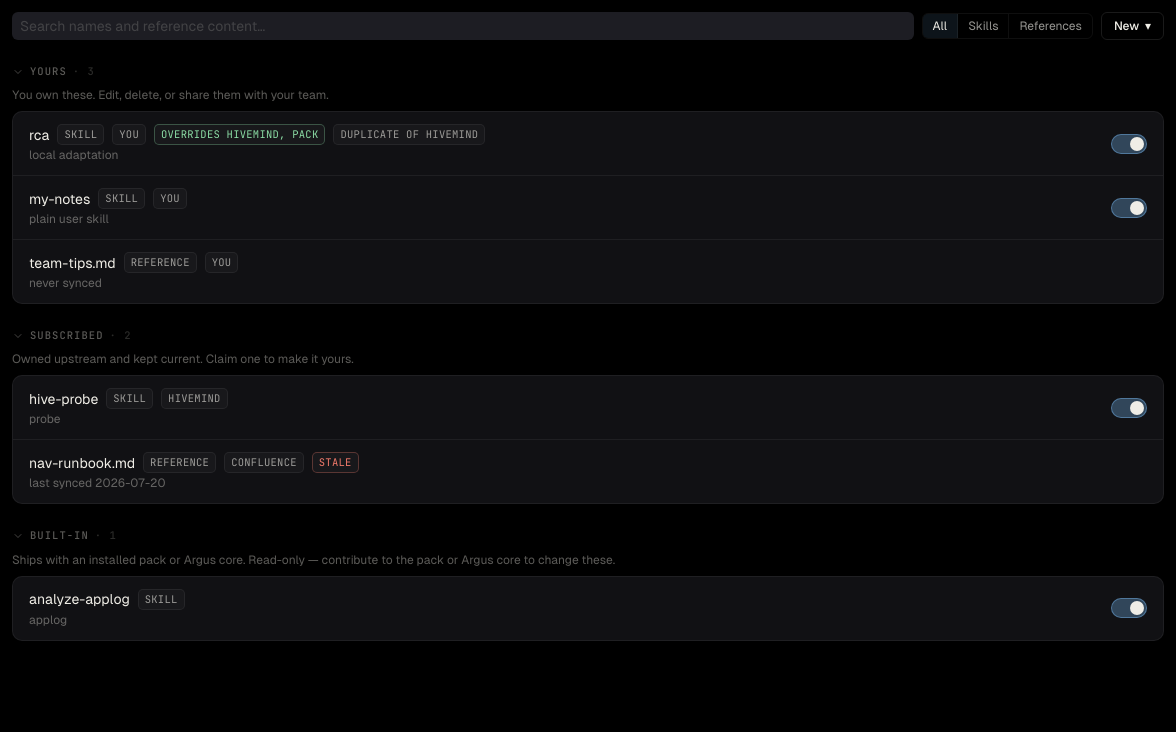
LibraryPage filters › collapsing a group hides its rows; an active filter overrides collapse
The width and height of the screenshot is (1176, 732).
Expected: the button "rca" is shown, [29,125,50,145]
Click the button with aria-label "Toggle section · Yours" at [53, 72], box [12,64,95,79]
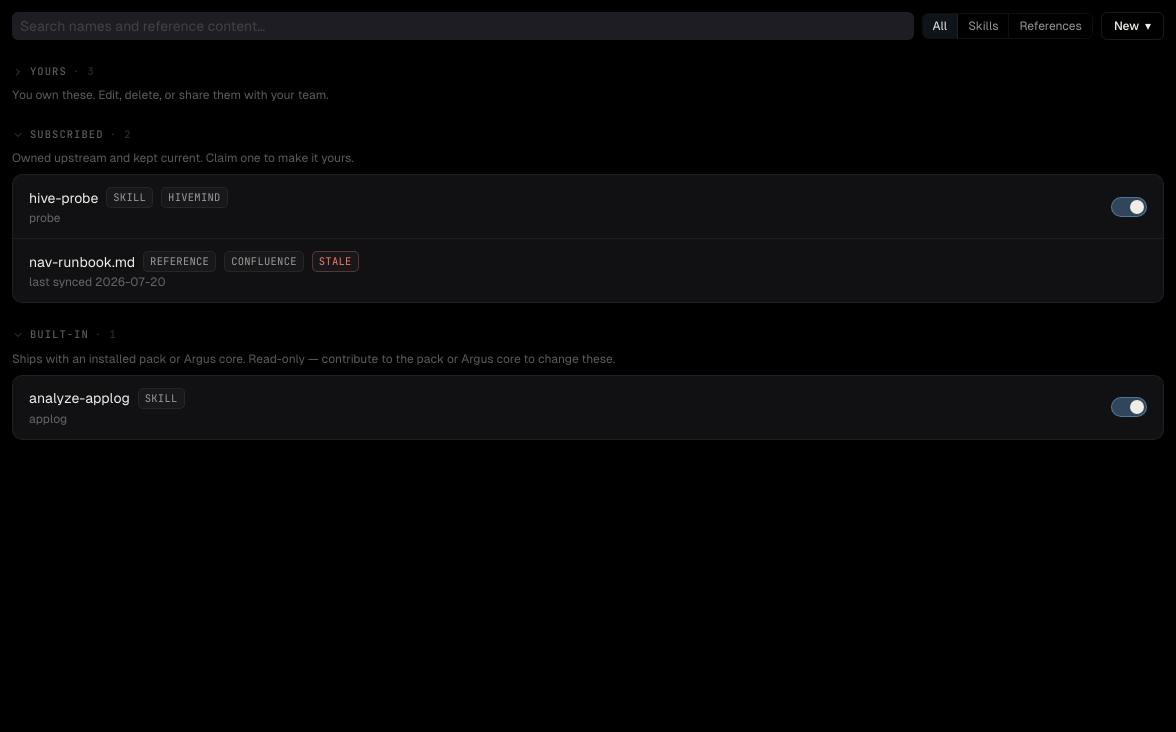
Expected: the button "hive-probe" is shown, [29,188,98,208]
Expected: the button "rca" is gone
Note: search overrides collapse so matches can't hide
Type "rca" into the field named "search library" at [463, 26], box [12,12,914,40]
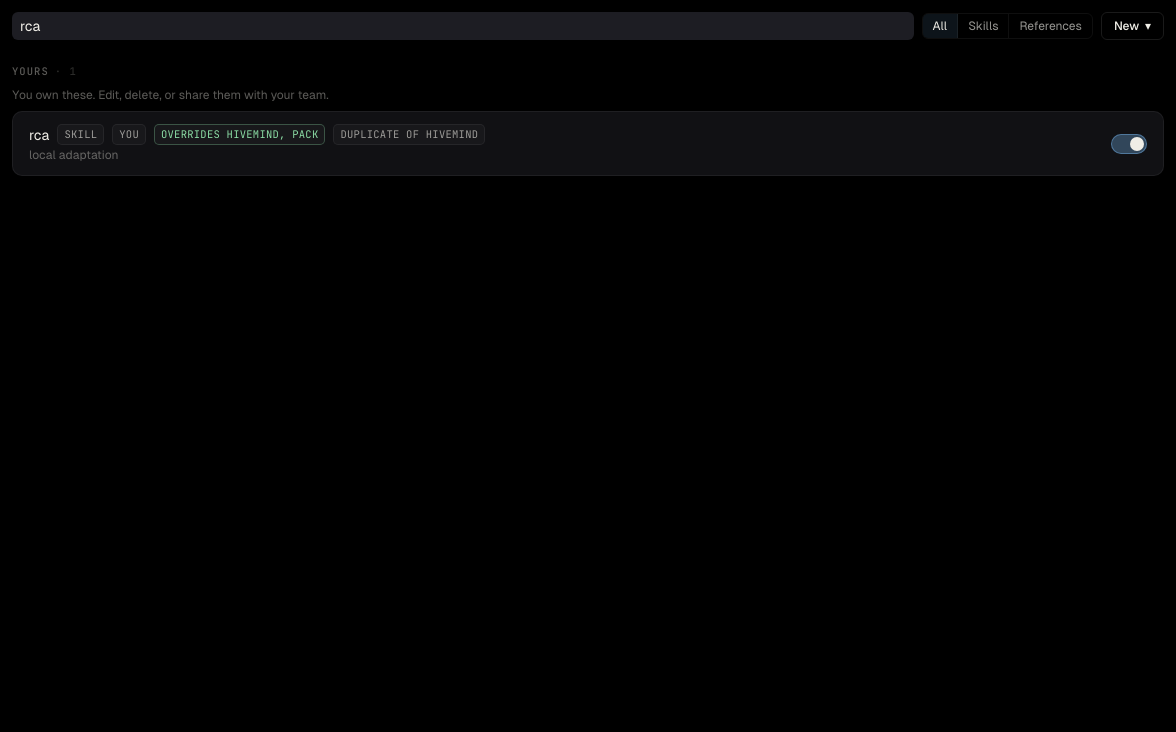
Expected: the button "rca" is shown, [29,125,50,145]
Note: clearing restores the collapsed state
Clear the field named "search library" at [463, 26], box [12,12,914,40]
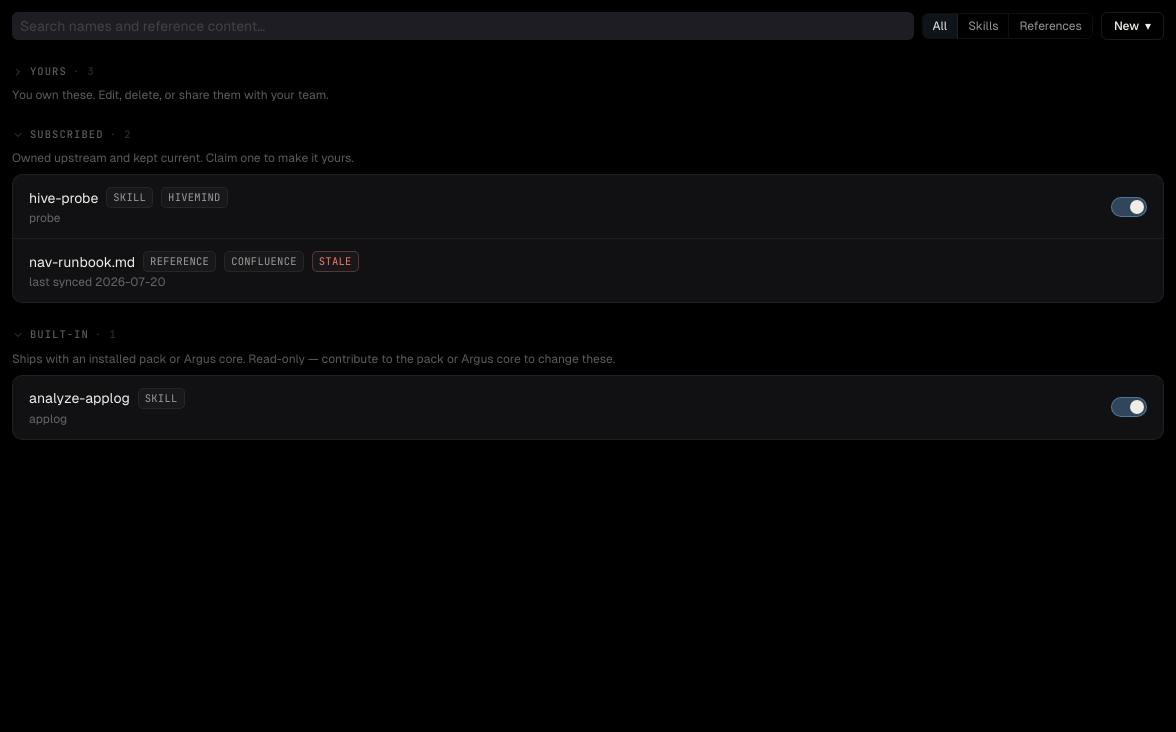
Expected: the button "rca" is gone
Note: a kind filter also overrides
Click the button with aria-label "Filter kind · skill" at [984, 26], box [958,14,1010,38]
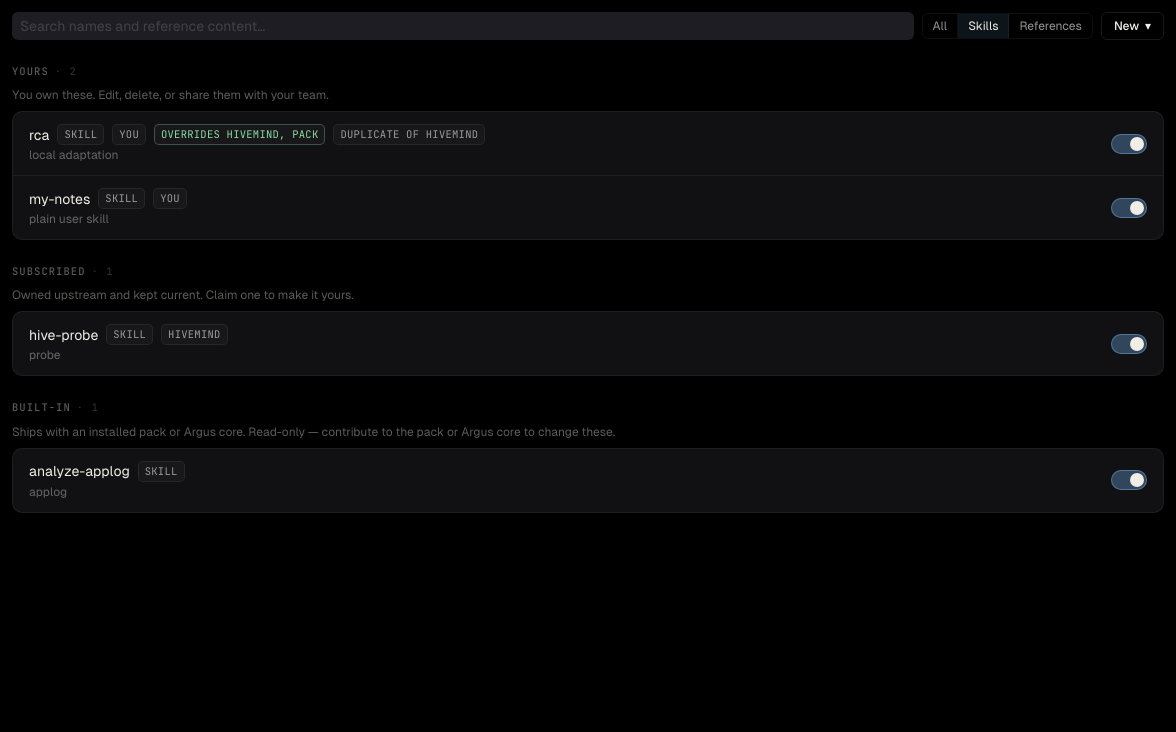
Expected: the button "rca" is shown, [29,125,50,145]
